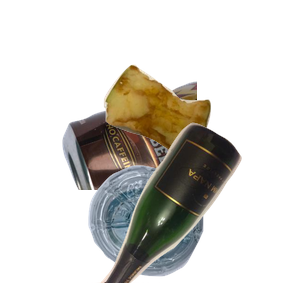glass: (87, 120, 300, 300)
metal: (60, 79, 300, 259)
plastic: (86, 163, 282, 300)
trash: (101, 62, 300, 217)
